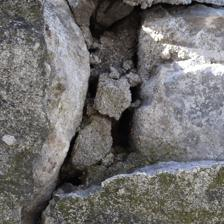Crack: (29, 10, 117, 183)
